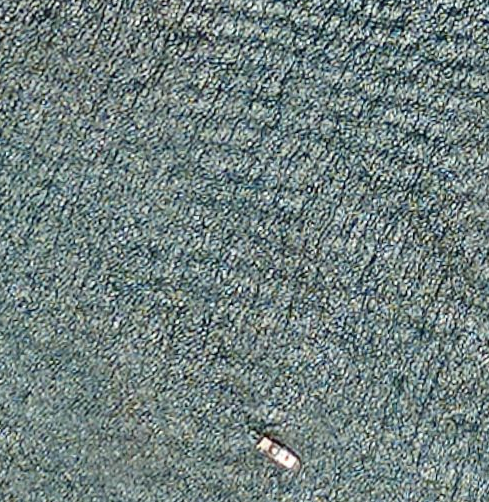ship: (253, 434, 305, 477)
